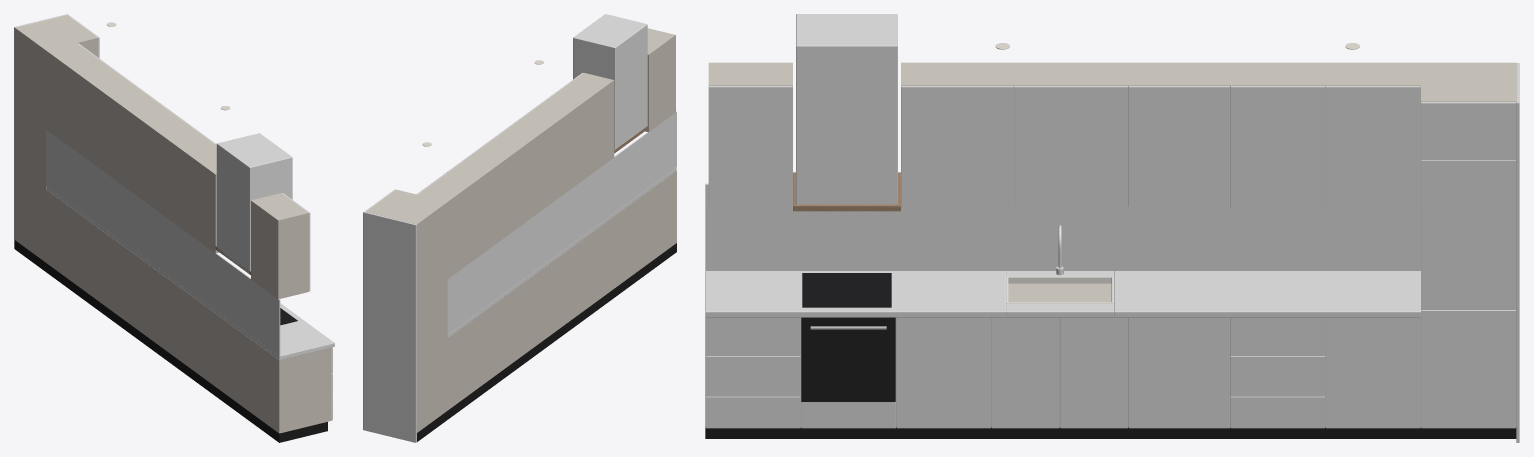
File: kitchen__1_3.glb
The picture shows the model from 3 angles, left to right: view 1: azimuth 30°, elevation 25°; view 2: azimuth 150°, elevation 25°; view 3: azimuth 270°, elevation 25°; orthographic projection. The views are drawn at different scales.
Visible parts, largest first — view 1: upper carcass, carcass, splashback, tall carcass, hood, plinth, worktop, upper fronts; view 2: upper carcass, carcass, splashback, fridge end panel, tall carcass, hood, plinth, worktop, upper fronts; view 3: fronts, upper fronts, splashback, worktop, hood, upper carcass, plinth, oven, tall carcass, carcass, hob, fridge end panel (+2 smaller).
Boxes of the visible parts, x1=… form: upper carcass: x1=46, y1=43, x2=308, y2=299; carcass: x1=46, y1=189, x2=331, y2=433; splashback: x1=46, y1=129, x2=280, y2=356; tall carcass: x1=15, y1=15, x2=98, y2=262; hood: x1=216, y1=133, x2=292, y2=273; plinth: x1=15, y1=240, x2=327, y2=442; worktop: x1=46, y1=186, x2=334, y2=359; upper fronts: x1=77, y1=43, x2=310, y2=291; upper carcass: x1=418, y1=28, x2=675, y2=278; carcass: x1=447, y1=171, x2=676, y2=410; splashback: x1=447, y1=111, x2=676, y2=334; fridge end panel: x1=363, y1=211, x2=416, y2=442; tall carcass: x1=366, y1=189, x2=447, y2=432; hood: x1=573, y1=14, x2=647, y2=149; plinth: x1=417, y1=243, x2=676, y2=441; worktop: x1=447, y1=167, x2=676, y2=337; upper fronts: x1=416, y1=72, x2=583, y2=194; fronts: x1=705, y1=102, x2=1515, y2=428; upper fronts: x1=709, y1=86, x2=1420, y2=207; splashback: x1=705, y1=183, x2=1420, y2=270; worktop: x1=705, y1=271, x2=1420, y2=317; hood: x1=796, y1=14, x2=897, y2=204; upper carcass: x1=708, y1=62, x2=1420, y2=206; plinth: x1=705, y1=427, x2=1516, y2=438; oven: x1=801, y1=317, x2=895, y2=402; tall carcass: x1=1421, y1=62, x2=1516, y2=426; carcass: x1=705, y1=283, x2=1420, y2=427; hob: x1=802, y1=273, x2=891, y2=307; fridge end panel: x1=1516, y1=63, x2=1519, y2=442.
Size of the model in its own units: 0.63 by 2.7 by 5.12.
Materials: 15 (1 with a texture image).
